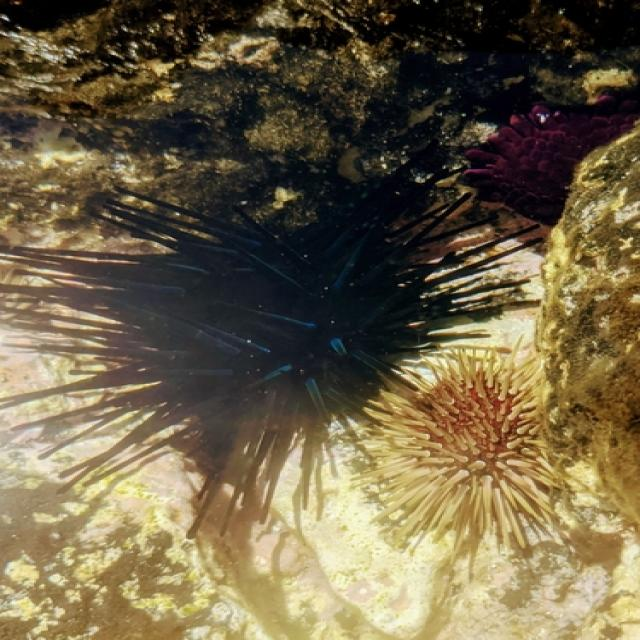Urchin: (2, 142, 544, 533)
